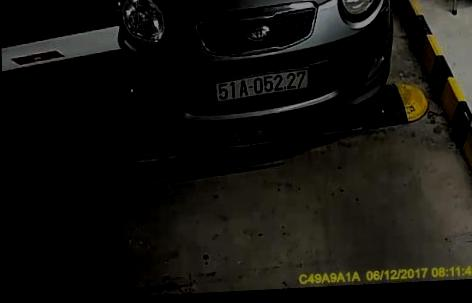License_Plate: (215, 67, 312, 104)
